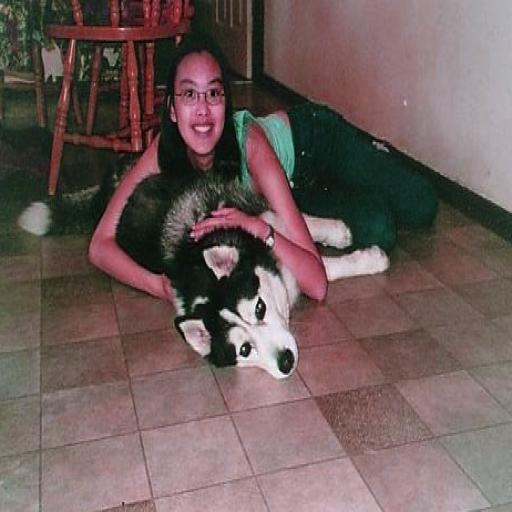dog_face: (173, 242, 300, 381)
